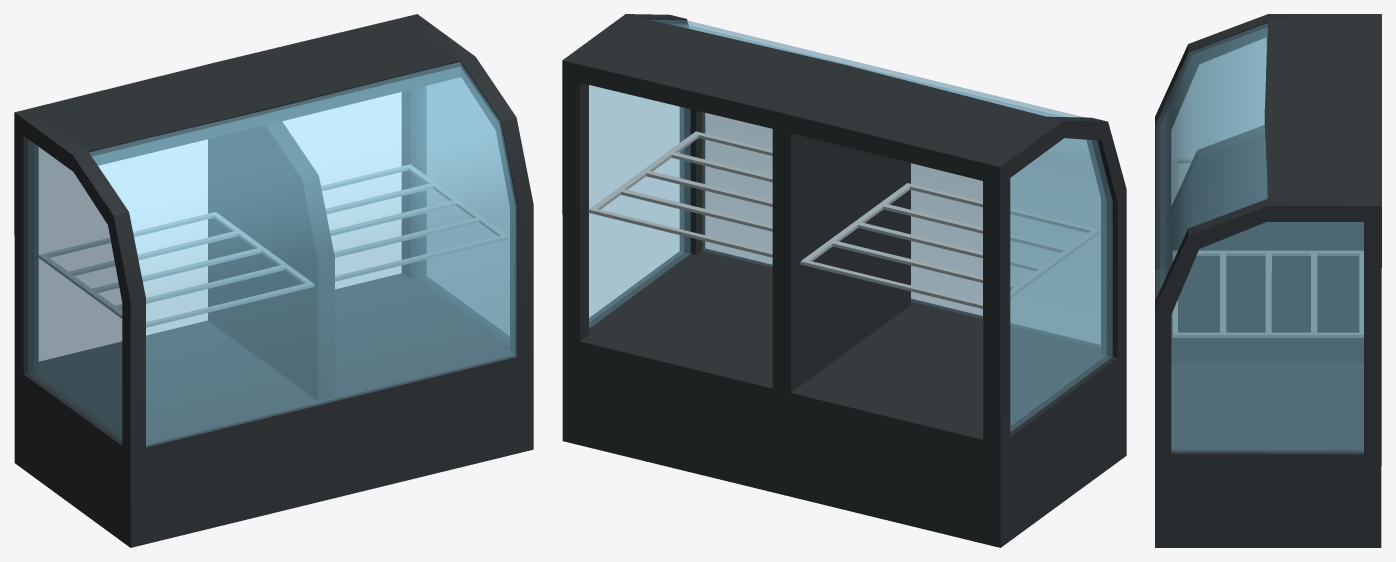
Rendered from PW_fridge.fbx.
The picture shows the model from 3 angles, left to right: view 1: azimuth 30°, elevation 25°; view 2: azimuth 150°, elevation 25°; view 3: azimuth 270°, elevation 25°; orthographic projection. The views are drawn at different scales.
Visible parts, largest first — view 1: frame, glass, metal; view 2: frame, glass, metal; view 3: frame, glass, metal.
Boxes of the visible parts, x1,y1,x2,y2 form: frame: [14, 14, 533, 547]; glass: [28, 62, 516, 446]; metal: [39, 164, 508, 327]; frame: [562, 14, 1126, 547]; glass: [589, 20, 1112, 431]; metal: [588, 131, 1099, 308]; frame: [1155, 14, 1381, 547]; glass: [1156, 23, 1363, 452]; metal: [1173, 158, 1363, 337].
Size of the model in its own units: 2.39 by 1.99 by 1.2.
